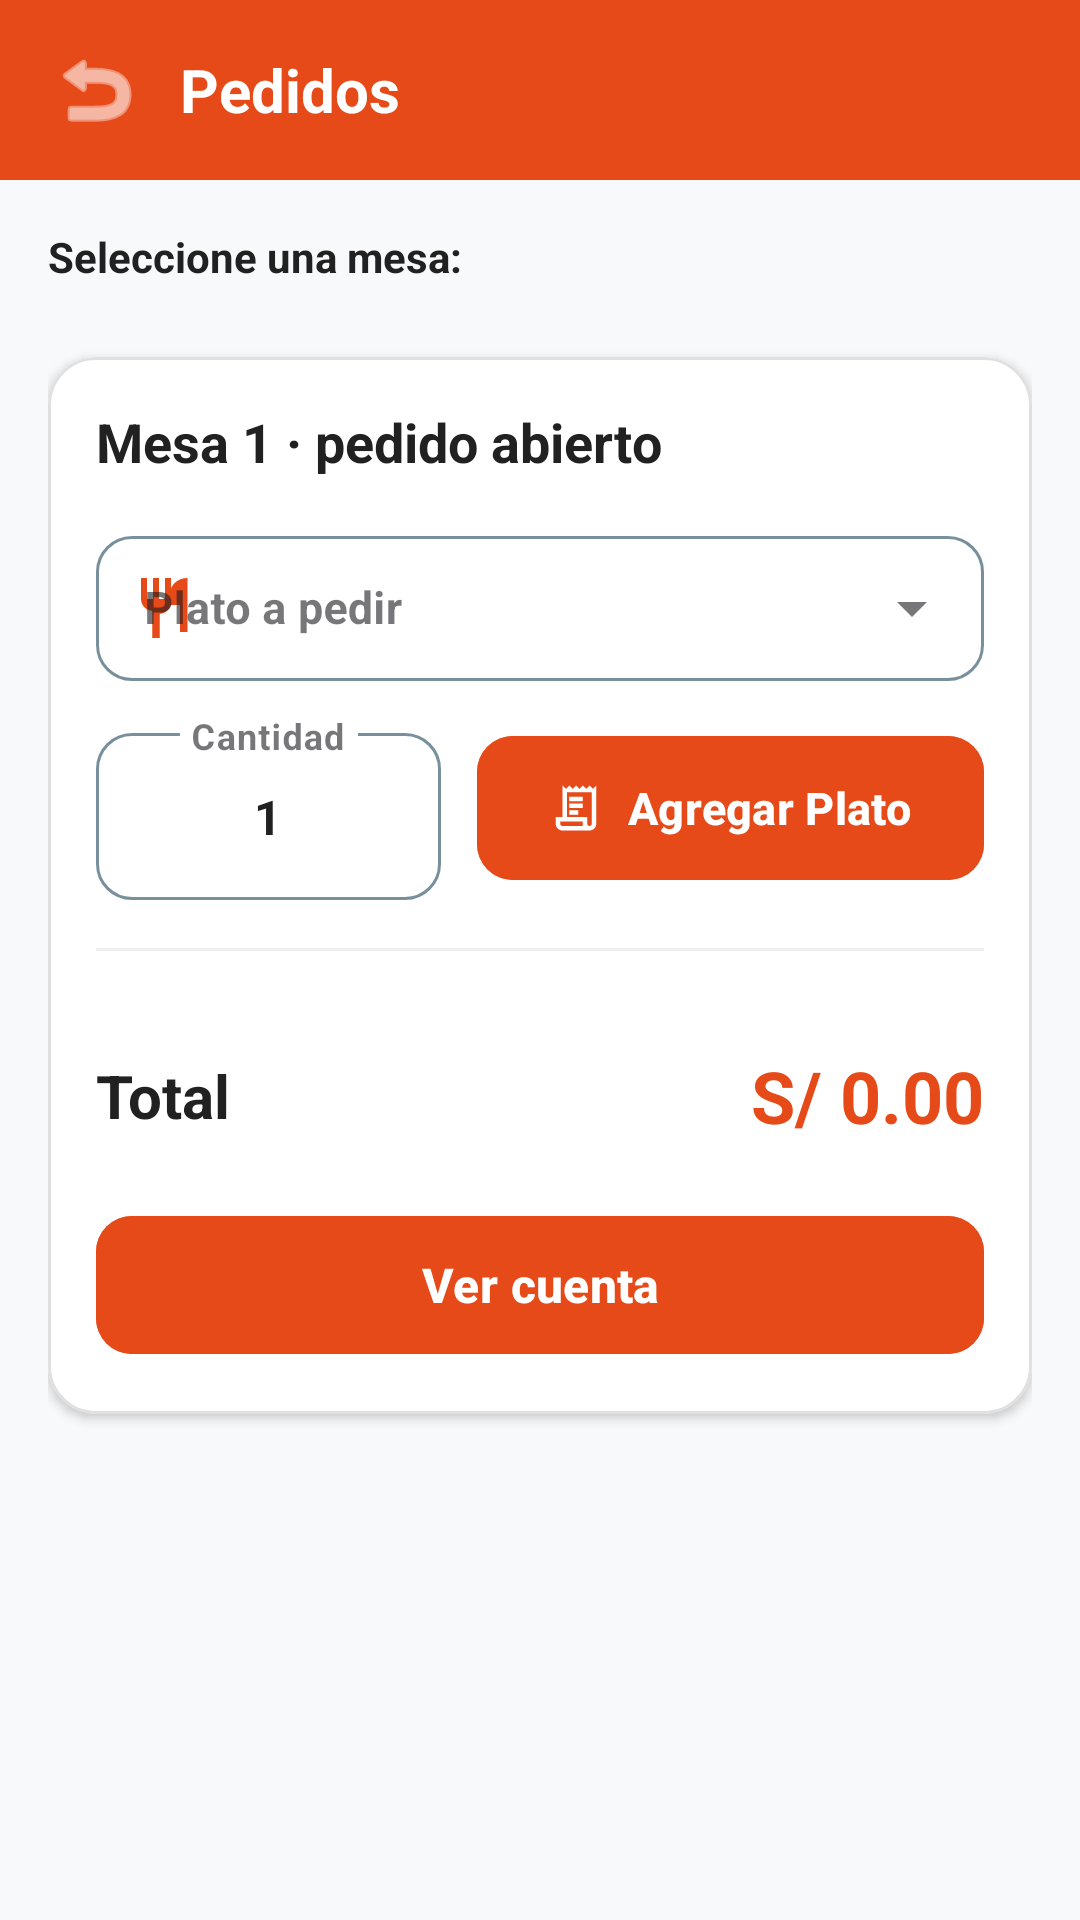

Locate icon controls on the screen. Image size 1080w x 1920h, boxes as (left=x1, top=y1, right=x2, bottom=y2).
revert: (left=63, top=59, right=132, bottom=122)
